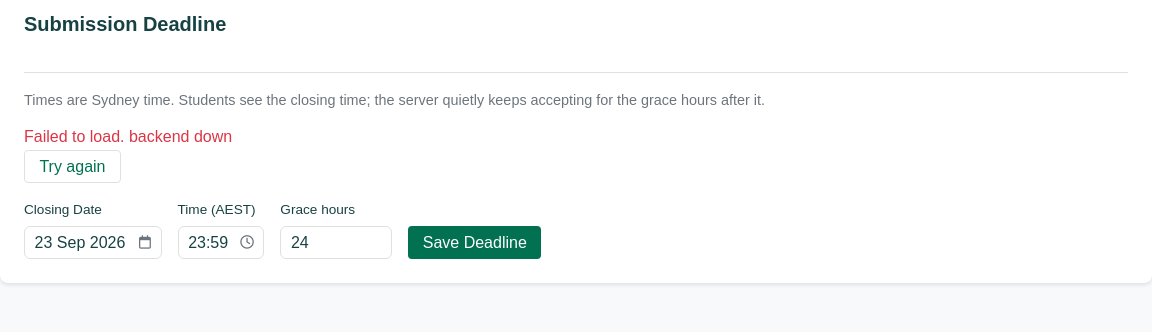
Test case: the current-deadline card › offers a retry when the load fails
The width and height of the screenshot is (1152, 332).
Click the button with class "btn-outline". click: (72, 166)
box: [24,150,121,183]
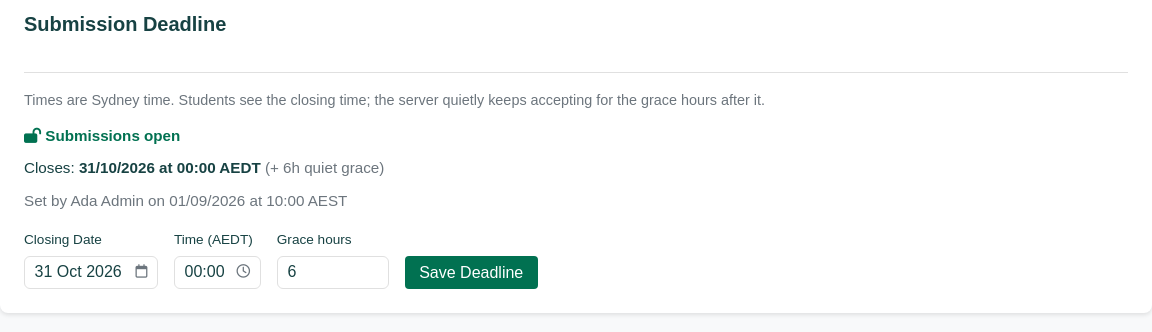
Result: the text "Submissions open" is shown at [24,127,180,144]
